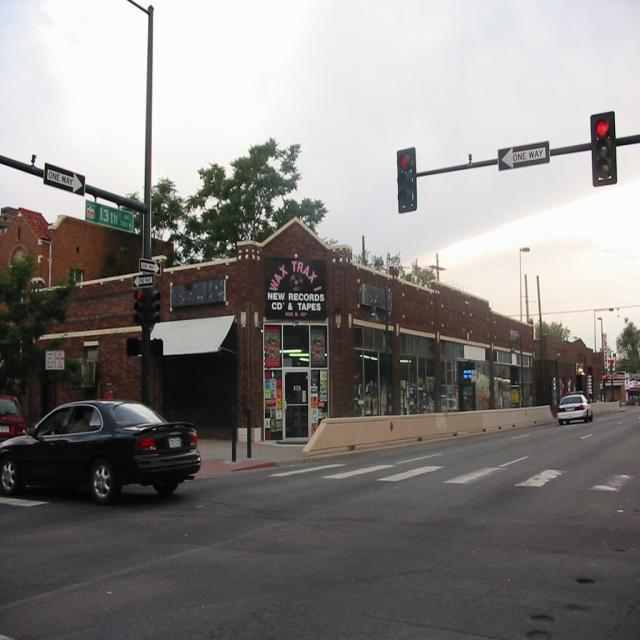traffic light: (592, 114, 617, 186), (396, 150, 419, 211)
